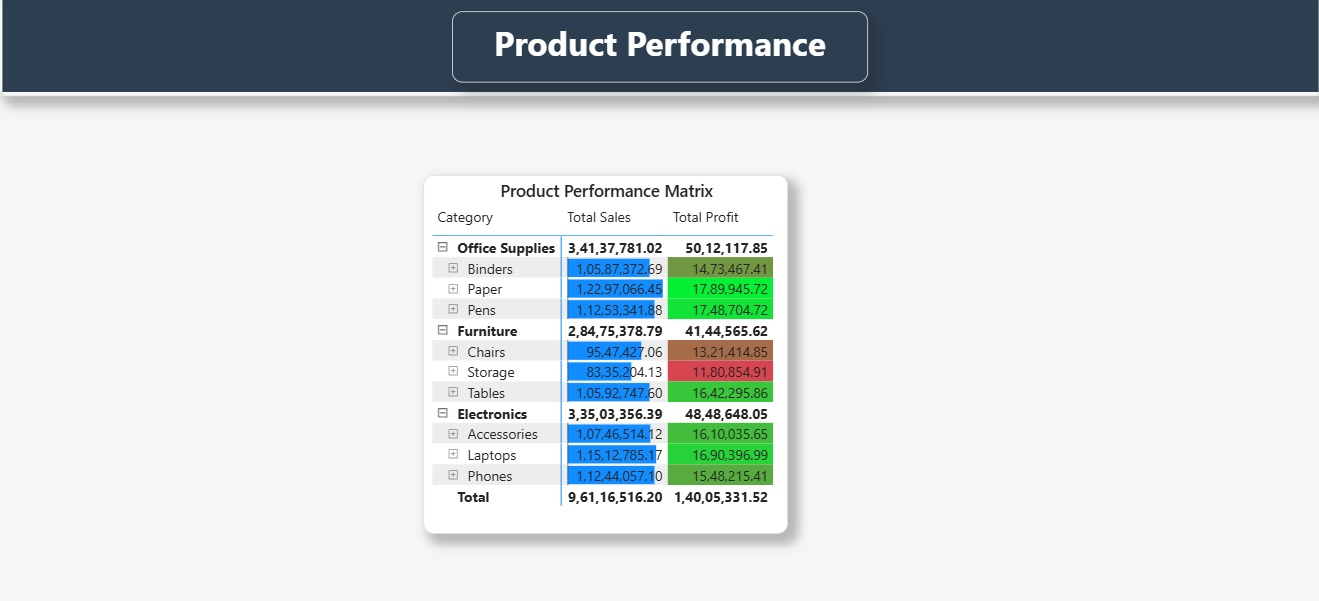

What the dashboard file says about the page in this screenshot:
{"tool":"powerbi","page":{"name":"Product Performance ","canvas":[1280,720],"ordinal":2},"visuals":[{"type":"pivotTable","title":"Product Performance Matrix","fields":{"Rows":["FactSales.Category","FactSales.SubCategory","FactSales.Product"],"Values":["FactSales.Total Sales","FactSales.Total Profit"]},"box":[411.2,255,346.2,157.5],"z":0},{"type":"shape","box":[1.2,0,1278.8,97.7],"z":1000},{"type":"textbox","box":[439.1,15.7,401.7,68.8],"z":2000}]}

Visuals, with their boxes on the page's 1280x720 design canvas (x1, y1, x2, y2). These are canvas units, not pixel positions in the 1319x601 screenshot, which may show the page scaled, cropped or inside an application window:
"Product Performance Matrix" pivotTable: (411, 255, 757, 412)
shape: (1, 0, 1280, 98)
textbox: (439, 16, 841, 84)
